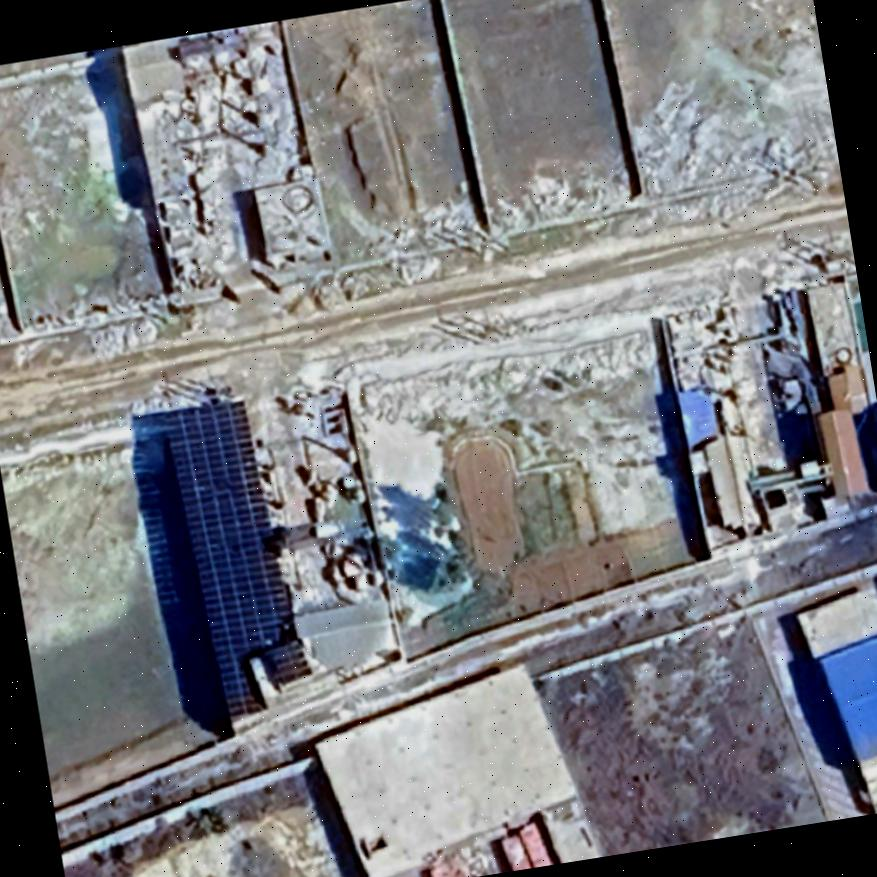Solarpanel: (151, 384, 316, 733)
